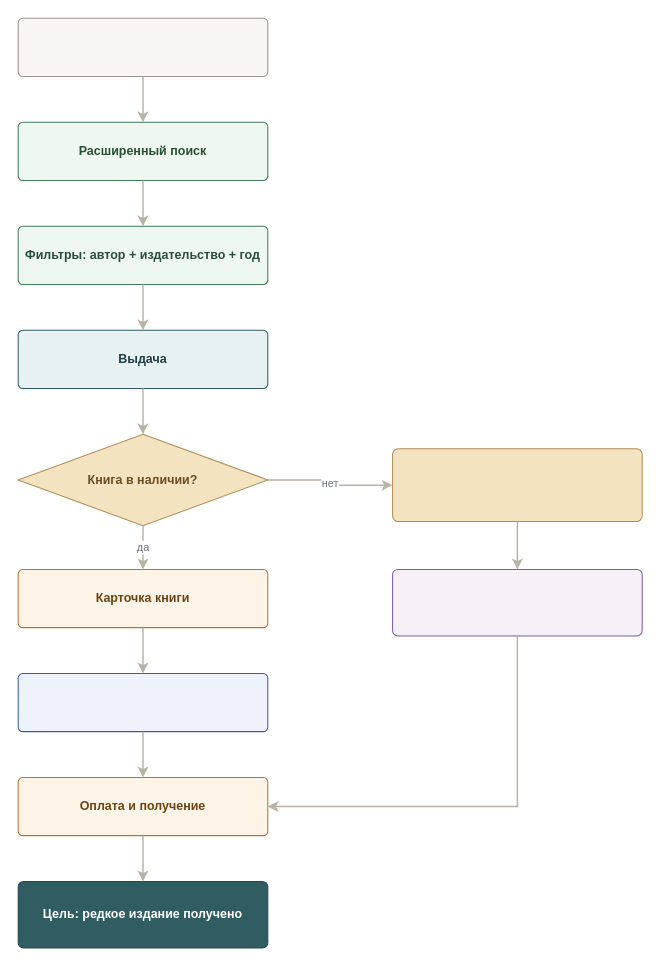
The diagram is 660 pixels wide and 966 high, and some of its shapes have lost their labels. Here are the shapes that lost their labels. From the top down, the centre of each, then its label:
At point 142,46: "Старт: веб-версия с ноутбука".
At point 517,485: "Предзаказ / подписка на поступление".
At point 517,602: "Уведомление о поступлении".
At point 142,702: "ЛК: подписка на жанр".
